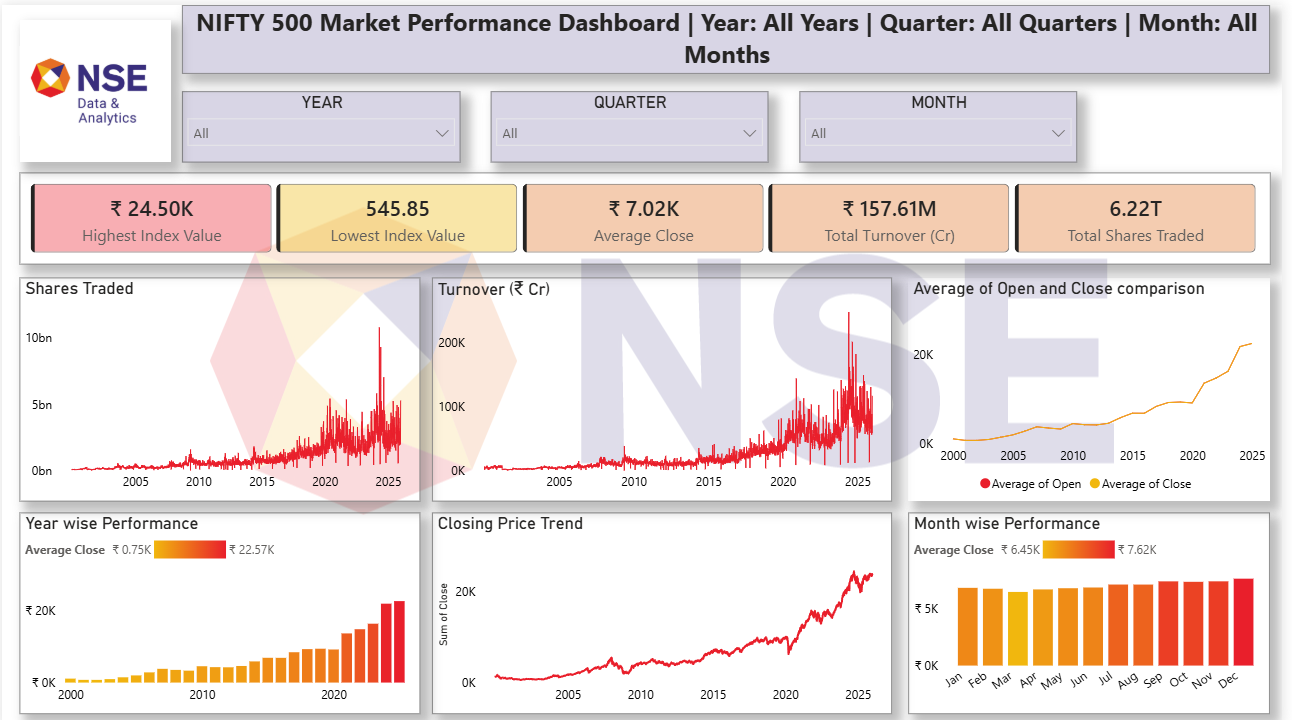

This screenshot's page, from the dashboard's own definition file:
{"tool":"powerbi","page":{"name":"Dashboard 2","canvas":[1280,720],"ordinal":0},"visuals":[{"type":"slicer","title":"YEAR","fields":{"Values":["Calender.Year"]},"box":[179.8,82,278.7,74.8],"z":0},{"type":"slicer","title":"MONTH","fields":{"Values":["Calender.Month"]},"box":[471.7,82,278,74.8],"z":1000},{"type":"cardVisual","fields":{"Data":["NIFTY 500 (2000-2025).Highest Index Value","NIFTY 500 (2000-2025).Lowest Index Value","NIFTY 500 (2000-2025).Closing Price","NIFTY 500 (2000-2025).Total Turnover","NIFTY 500 (2000-2025).Total Shares Traded"]},"box":[16.9,167.7,1251.1,91.7],"z":2000},{"type":"lineChart","title":"Closing Price Trend","fields":{"Y":["Sum(NIFTY 500 (2000-2025).Close )"],"Category":["NIFTY 500 (2000-2025).Date "]},"box":[429.5,507.9,459.7,201.5],"z":3000},{"type":"clusteredColumnChart","title":"Year wise Performance","fields":{"Y":["NIFTY 500 (2000-2025).Closing Price"],"Category":["Calender.Year"]},"box":[16.9,507.9,400.5,201.5],"z":4000},{"type":"clusteredColumnChart","title":"Month wise Performance","fields":{"Y":["NIFTY 500 (2000-2025).Closing Price"],"Category":["Calender.Month"]},"box":[906,507.9,361.9,201.5],"z":5000},{"type":"lineChart","title":"Shares Traded","fields":{"Y":["Sum(NIFTY 500 (2000-2025).Shares Traded )"],"Category":["Calender.Date.Variation.Date Hierarchy.Year","Calender.Date.Variation.Date Hierarchy.Quarter","Calender.Date.Variation.Date Hierarchy.Month","Calender.Date.Variation.Date Hierarchy.Day"]},"box":[16.9,272.7,400.5,224.4],"z":6000},{"type":"areaChart","title":"Turnover (₹ Cr)","fields":{"Y":["Sum(NIFTY 500 (2000-2025).Turnover (₹ Cr))"],"Category":["Calender.Date.Variation.Date Hierarchy.Year","Calender.Date.Variation.Date Hierarchy.Quarter","Calender.Date.Variation.Date Hierarchy.Month","Calender.Date.Variation.Date Hierarchy.Day"]},"box":[429.5,272.7,459.7,224.4],"z":7000},{"type":"slicer","title":"QUARTER","fields":{"Values":["Calender.Quarter"]},"box":[764.9,82,278,74.8],"z":8000},{"type":"lineChart","title":"Average of Open and Close comparison","fields":{"Category":["Calender.Date.Variation.Date Hierarchy.Year","Calender.Date.Variation.Date Hierarchy.Quarter","Calender.Date.Variation.Date Hierarchy.Month","Calender.Date.Variation.Date Hierarchy.Day"],"Y":["Avg(NIFTY 500 (2000-2025).Open )","Avg(NIFTY 500 (2000-2025).Close )"]},"box":[906,272.7,361.9,224.4],"z":9000},{"type":"image","box":[16.9,14.5,150.8,142.4],"z":10000},{"type":"textbox","box":[179.8,14.5,1088.2,50],"z":11000}]}

Visuals, with their boxes in screenshot pixels (x1, y1, x2, y2), scaled from the page's 1280x720 canvas onto the 1292x720 screenshot:
"YEAR" slicer: 181 82 463 157
"MONTH" slicer: 476 82 757 157
cardVisual - NIFTY 500 (2000-2025).Highest Index Value x NIFTY 500 (2000-2025).Lowest Index Value: 17 168 1280 259
"Closing Price Trend" lineChart: 434 508 898 709
"Year wise Performance" clusteredColumnChart: 17 508 421 709
"Month wise Performance" clusteredColumnChart: 914 508 1280 709
"Shares Traded" lineChart: 17 273 421 497
"Turnover (₹ Cr)" areaChart: 434 273 898 497
"QUARTER" slicer: 772 82 1053 157
"Average of Open and Close comparison" lineChart: 914 273 1280 497
image: 17 14 169 157
textbox: 181 14 1280 64
